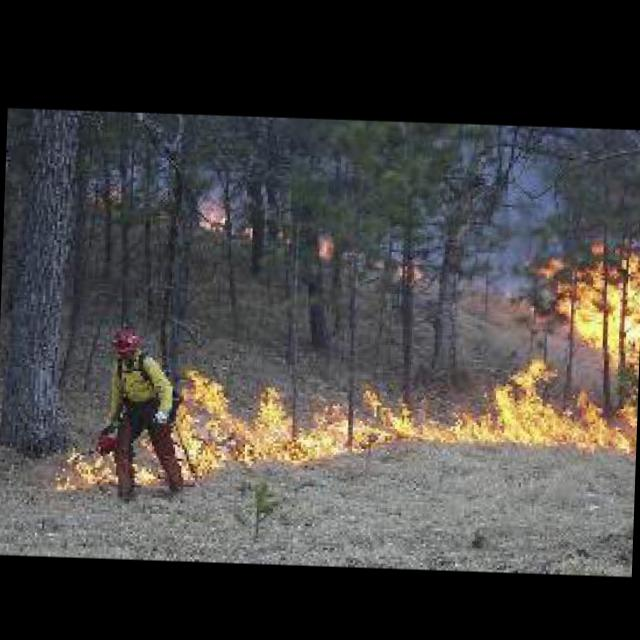fire: (52, 341, 488, 508), (489, 223, 640, 453), (198, 202, 258, 235), (314, 232, 336, 261), (398, 258, 423, 282)
